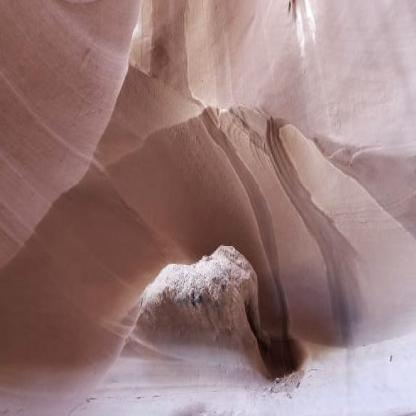Sedimentary_Sandstone: (144, 244, 270, 366)
